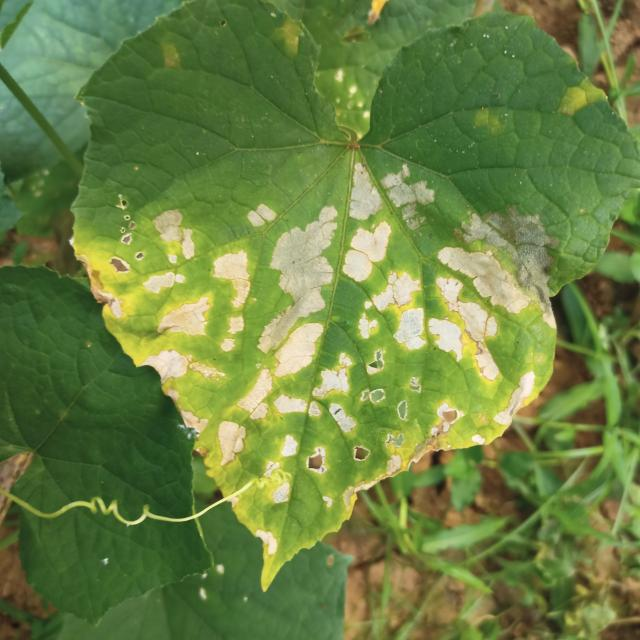disease_cucumber: (72, 155, 558, 533), (542, 70, 614, 132)
